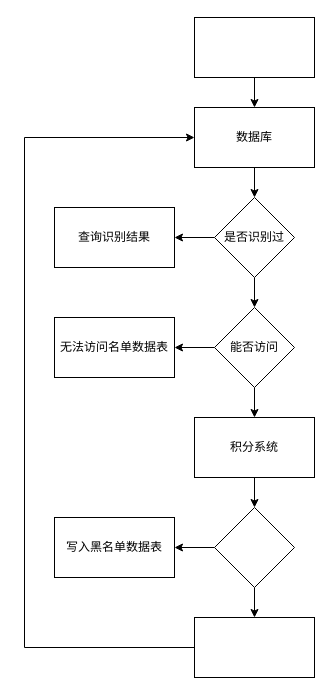
Image size: 332x695. Some labels were removed from this diagram. The shapes that lost their labels are listed below. From the top down, each one's centre as x and y in pixels, then its label:
pixel 254 47: 待识别网址url
pixel 254 547: 是否涉黄
pixel 254 647: 写入白名单数据表
